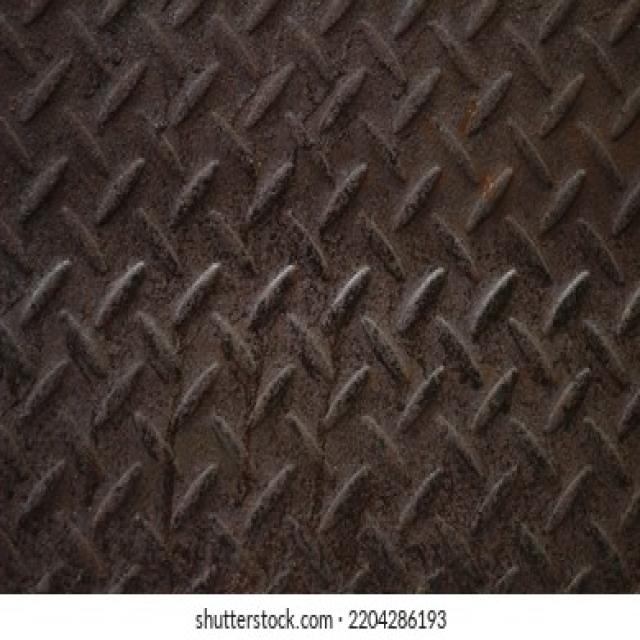corrosion: (0, 3, 640, 274), (1, 380, 640, 595), (6, 262, 640, 389)
